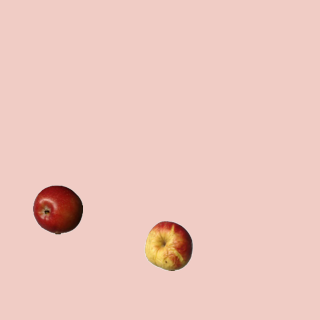Apple Braeburn: (32, 184, 82, 234)
Apple Red Yellow 1: (143, 220, 193, 270)
